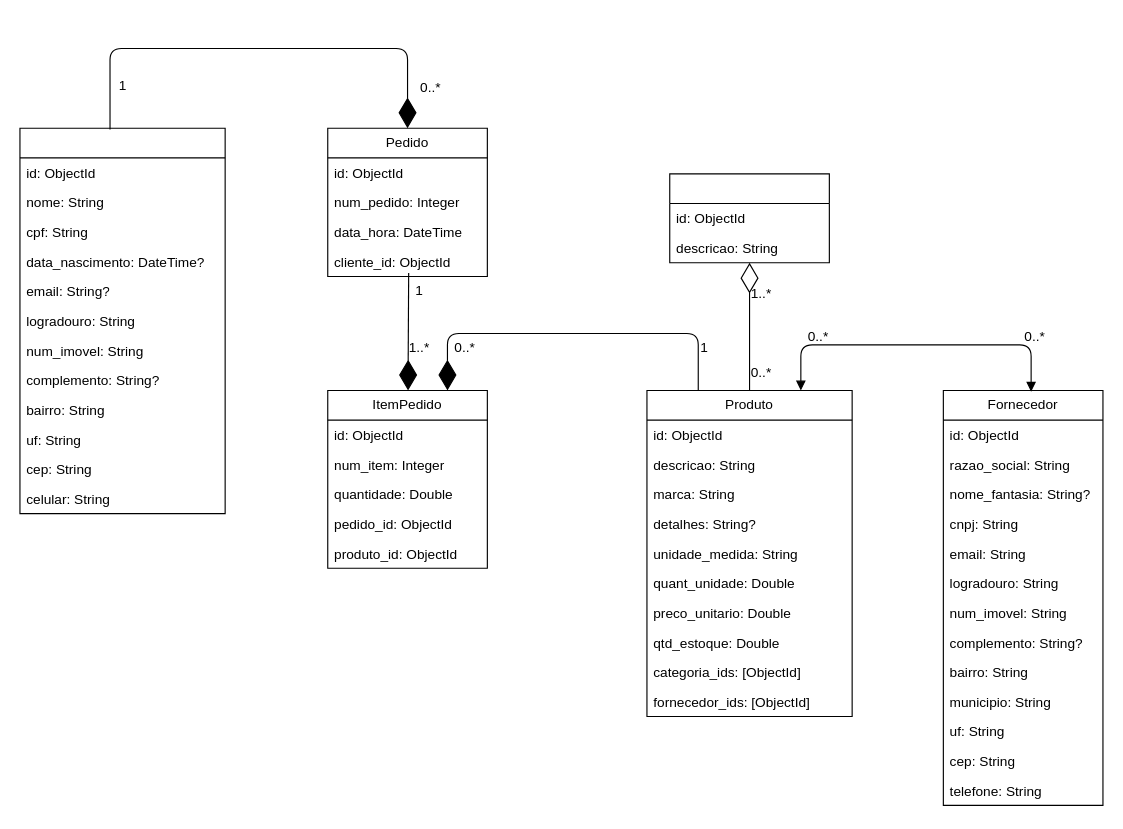
Some shapes in this 1123 by 829 pixel diagram are drawn without their labels. The box of each missing label's shape, as (x1, y1, x2, y2) in pixels:
Categoria: (669, 173, 829, 263)
Cliente: (19, 127, 225, 514)
